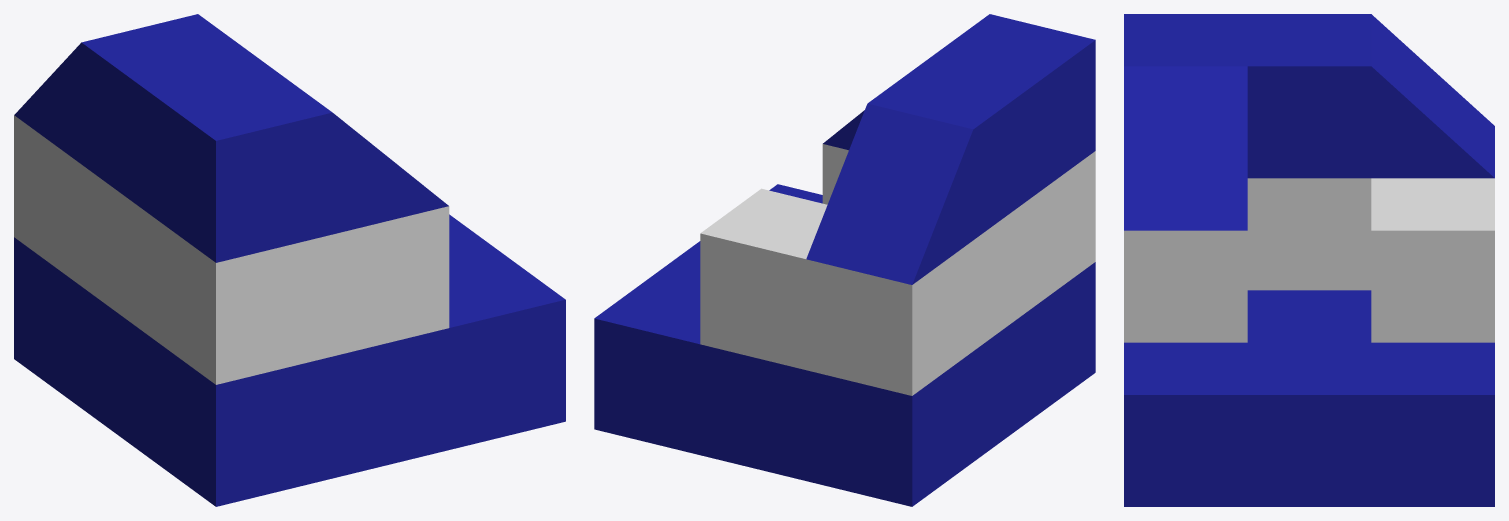
File: vista3.glb
The picture shows the model from 3 angles, left to right: view 1: azimuth 30°, elevation 25°; view 2: azimuth 150°, elevation 25°; view 3: azimuth 270°, elevation 25°; orthographic projection. The views are drawn at different scales.
Visible parts, largest first — view 1: Cube; view 2: Cube; view 3: Cube.
Part boxes in pixels (<box>): Cube: <box>14,14,565,506</box>; Cube: <box>594,14,1095,506</box>; Cube: <box>1124,14,1494,506</box>.
Size of what is drawn, in the model's own units: 6 by 6 by 6.
